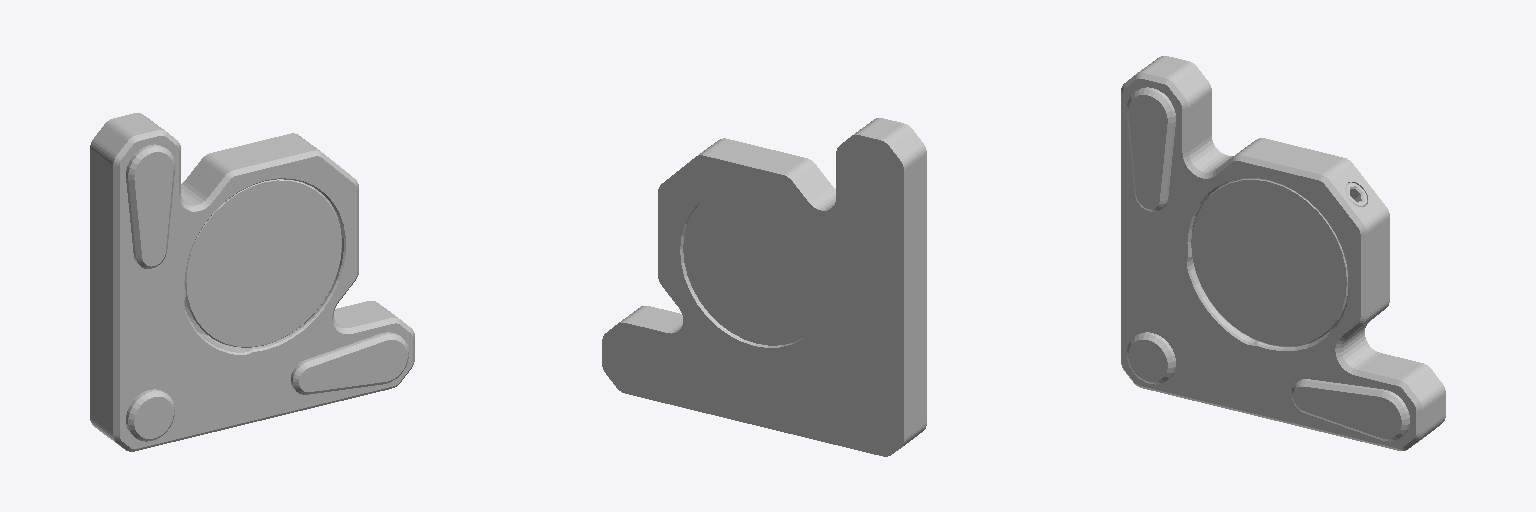
Rendered from KM100_Top.obj.
The picture shows the model from 3 angles: view 1: azimuth 30°, elevation 25°; view 2: azimuth 150°, elevation 25°; view 3: azimuth 330°, elevation 25°; orthographic projection.
Visible parts, largest first — view 1: polySurface965; view 2: polySurface965; view 3: polySurface965.
Boxes of the visible parts, <box> form: polySurface965: <box>90,113,414,451</box>; polySurface965: <box>602,118,926,456</box>; polySurface965: <box>1121,56,1445,450</box>.
Size of the model in its own units: 48.64 by 48.64 by 8.38.